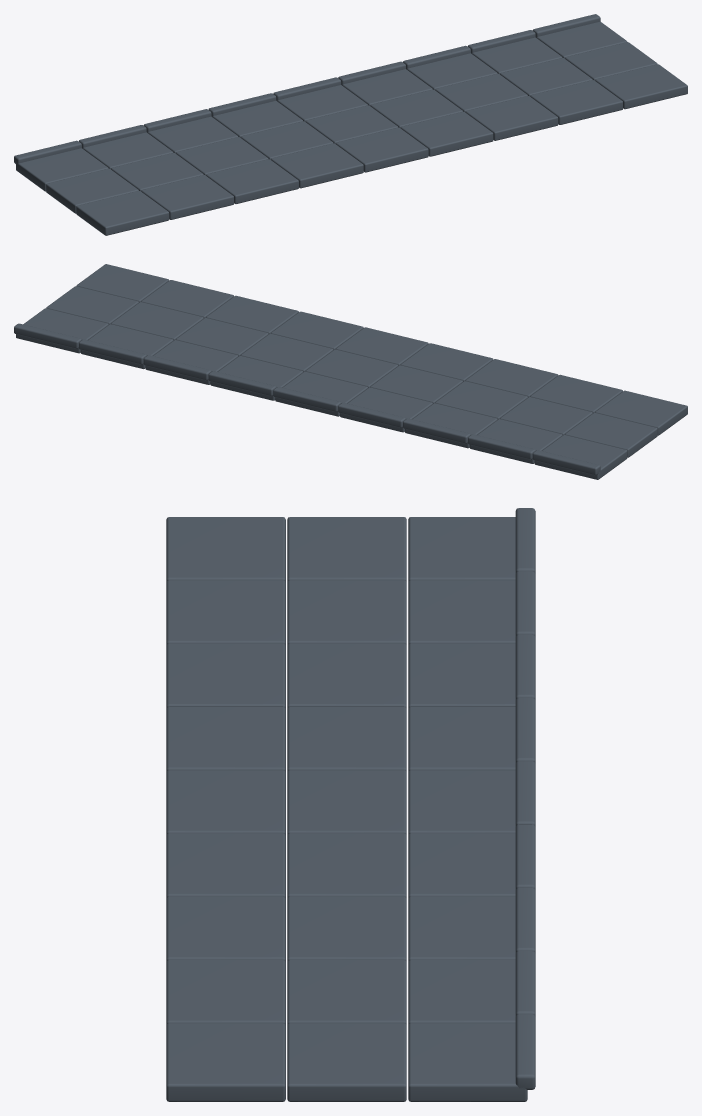
Rendered from terrace.glb.
3 views of the same model, one above another, from view 1: azimuth 30°, elevation 25°; view 2: azimuth 150°, elevation 25°; view 3: azimuth 270°, elevation 25° (orthographic). The views are drawn at different scales.
Visible parts, largest first — view 1: Terrace stone 0 0, Terrace stone 4 0, Terrace stone 6 0, Terrace stone 5 0, Terrace stone 8 0, Terrace stone 1 0, Terrace stone 2 0, Terrace stone 3 0, Terrace stone 7 0, Terrace stone 0 1, Terrace stone 0 2, Terrace stone 4 1 (+24 smaller); view 2: Terrace stone 0 1, Terrace stone 0 0, Terrace stone 0 2, Terrace stone 3 1, Terrace stone 5 1, Terrace stone 8 0, Terrace stone 3 0, Terrace stone 7 1, Terrace stone 8 1, Terrace stone 1 0, Terrace stone 2 1, Terrace stone 4 0 (+24 smaller); view 3: Terrace stone 8 0, Terrace stone 8 1, Terrace stone 8 2, Terrace stone 0 0, Terrace stone 1 0, Terrace stone 3 0, Terrace stone 4 0, Terrace stone 6 0, Terrace stone 7 0, Terrace stone 0 1, Terrace stone 1 1, Terrace stone 2 0 (+24 smaller).
Part boxes in pixels (x1=…): Terrace stone 0 0: x1=76, y1=191, x2=169, y2=235; Terrace stone 4 0: x1=335, y1=127, x2=428, y2=172; Terrace stone 6 0: x1=465, y1=96, x2=558, y2=140; Terrace stone 5 0: x1=400, y1=111, x2=493, y2=156; Terrace stone 8 0: x1=595, y1=64, x2=687, y2=109; Terrace stone 1 0: x1=141, y1=175, x2=233, y2=219; Terrace stone 2 0: x1=206, y1=159, x2=298, y2=203; Terrace stone 3 0: x1=271, y1=143, x2=363, y2=188; Terrace stone 7 0: x1=530, y1=80, x2=622, y2=124; Terrace stone 0 1: x1=46, y1=168, x2=138, y2=213; Terrace stone 0 2: x1=16, y1=148, x2=108, y2=191; Terrace stone 4 1: x1=305, y1=105, x2=398, y2=143; Terrace stone 0 1: x1=565, y1=412, x2=657, y2=457; Terrace stone 0 0: x1=595, y1=390, x2=687, y2=435; Terrace stone 0 2: x1=534, y1=435, x2=627, y2=479; Terrace stone 3 1: x1=370, y1=365, x2=463, y2=403; Terrace stone 5 1: x1=240, y1=333, x2=333, y2=371; Terrace stone 8 0: x1=76, y1=264, x2=169, y2=302; Terrace stone 3 0: x1=401, y1=343, x2=493, y2=381; Terrace stone 7 1: x1=111, y1=302, x2=203, y2=340; Terrace stone 8 1: x1=46, y1=286, x2=138, y2=324; Terrace stone 1 0: x1=530, y1=374, x2=622, y2=412; Terrace stone 2 1: x1=435, y1=381, x2=527, y2=419; Terrace stone 4 0: x1=336, y1=327, x2=428, y2=365; Terrace stone 8 0: x1=166, y1=1023, x2=285, y2=1101; Terrace stone 8 1: x1=287, y1=1023, x2=406, y2=1101; Terrace stone 8 2: x1=408, y1=1023, x2=527, y2=1101; Terrace stone 0 0: x1=166, y1=517, x2=285, y2=582; Terrace stone 1 0: x1=166, y1=580, x2=285, y2=645; Terrace stone 3 0: x1=166, y1=706, x2=285, y2=772; Terrace stone 4 0: x1=166, y1=770, x2=285, y2=835; Terrace stone 6 0: x1=166, y1=896, x2=285, y2=962; Terrace stone 7 0: x1=166, y1=960, x2=285, y2=1025; Terrace stone 0 1: x1=287, y1=517, x2=406, y2=581; Terrace stone 1 1: x1=287, y1=580, x2=406, y2=645; Terrace stone 2 0: x1=166, y1=643, x2=285, y2=708.
Bounding box in the file's own units: 46.75 × 1.05 × 12.82.
